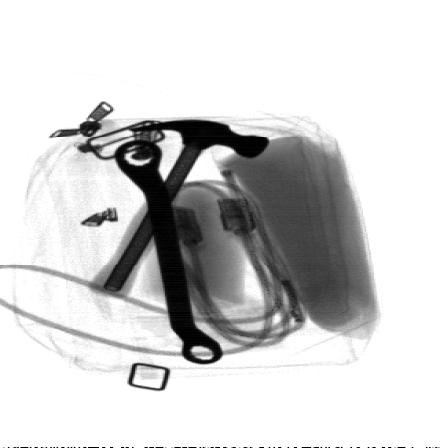Hammer: (89, 120, 267, 299)
Wrench: (115, 140, 224, 364)
